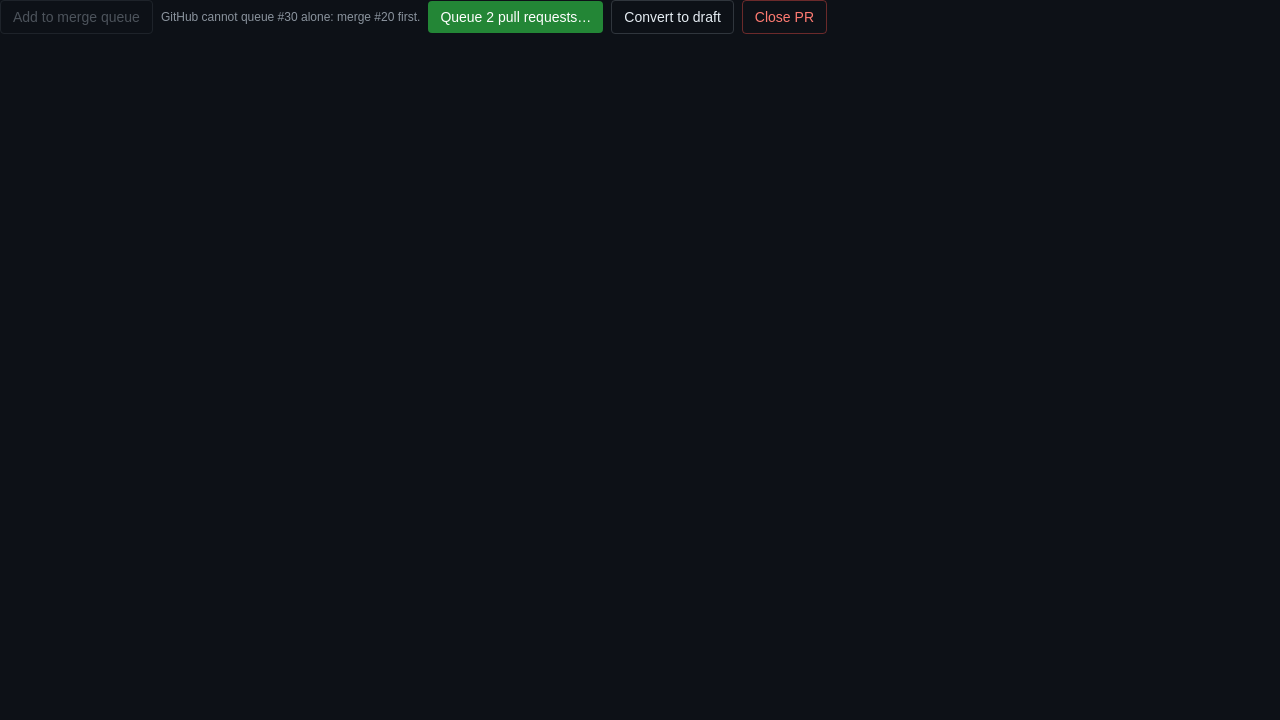
Stack merge (#1468) › confirms with every pull request it lands before acting
This screenshot has width=1280, height=720.
Click the button "Queue 2 pull requests…".
click(516, 17)  # box [428,1,603,33]
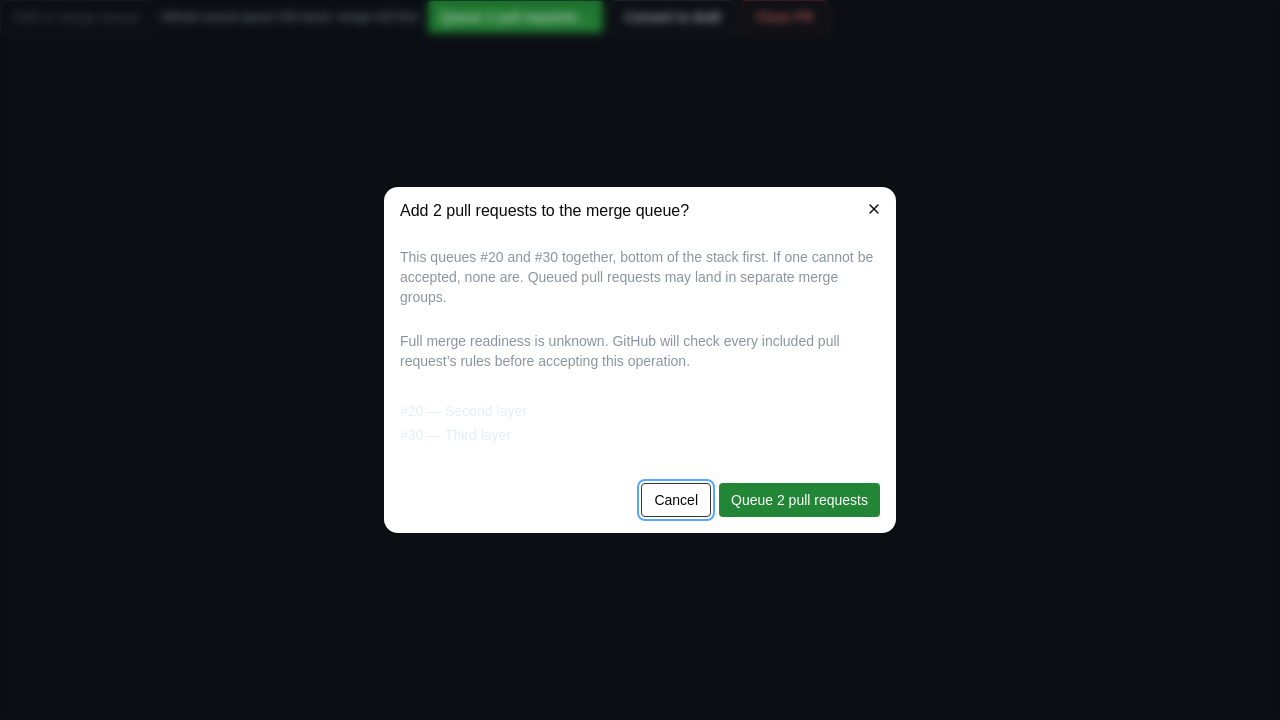
Expected: the list items read "#20 — Second layer", "#30 — Third layer", in this order, [400,403,527,419]; [400,427,511,443]
Expected: the text "This queues #20 and #30 together" is shown, [400,247,880,307]
